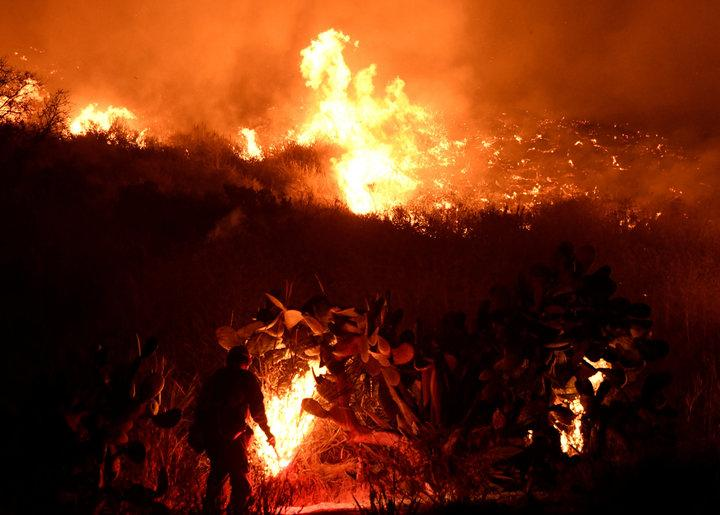Fire: (234, 28, 462, 222), (251, 339, 329, 486), (559, 334, 621, 475), (55, 97, 162, 155)
